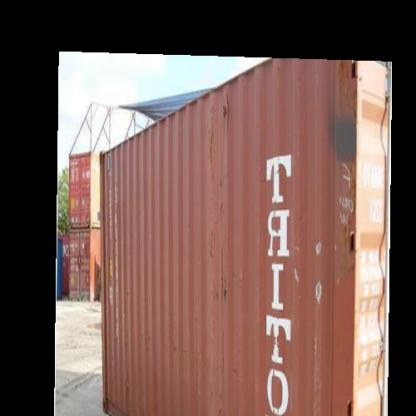Damage: (210, 192, 237, 300), (334, 158, 358, 246), (206, 97, 234, 167), (286, 210, 306, 292), (312, 234, 328, 310), (164, 338, 205, 364)
